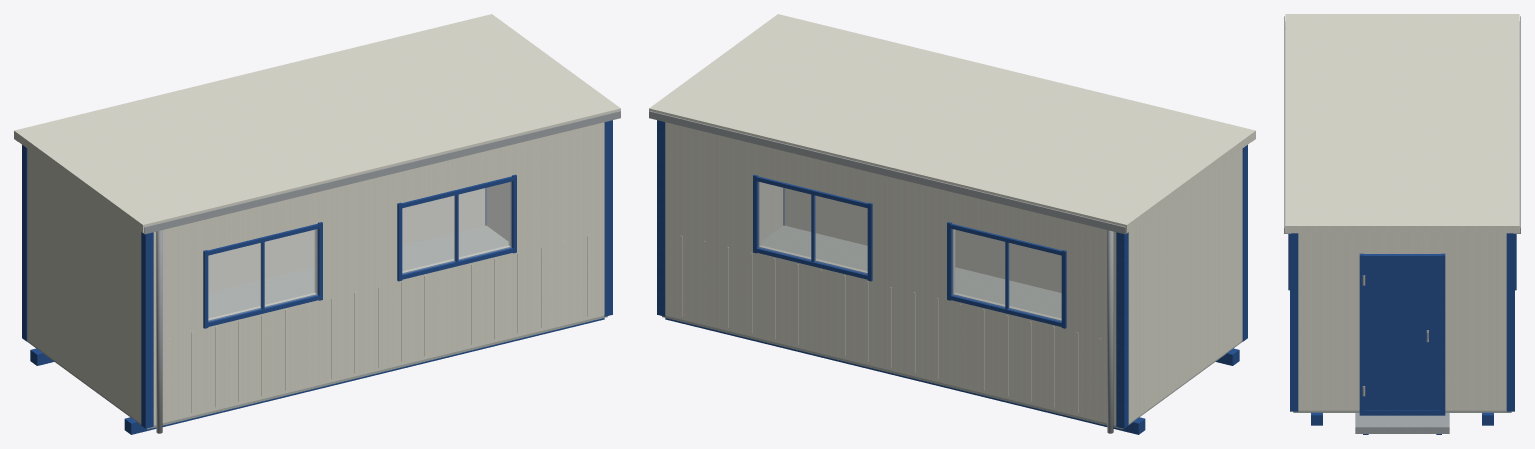
File: construction-site-cabin.glb
The picture shows the model from 3 angles, left to right: view 1: azimuth 30°, elevation 25°; view 2: azimuth 150°, elevation 25°; view 3: azimuth 270°, elevation 25°; orthographic projection. The views are drawn at different scales.
Parts seen in each view (by area): view 1: Cabin finite walls with true door and window openings, Cabin finite flat roof slab, Cabin finite floor, Cabin open finite gutter -1, Cabin side window -1 -1500 pane -1, Cabin side window -1 1000 pane -1, Cabin side window -1 1000 pane 1, Cabin side window -1 -1500 pane 1, Cabin corner post -2960 -1330, Cabin corner post 2960 -1330, Cabin downpipe -1, Cabin structural skid -1050 (+5 smaller); view 2: Cabin finite walls with true door and window openings, Cabin finite flat roof slab, Cabin finite floor, Cabin open finite gutter 1, Cabin side window 1 -1500 pane -1, Cabin side window 1 1000 pane -1, Cabin side window 1 1000 pane 1, Cabin side window 1 -1500 pane 1, Cabin corner post -2960 1330, Cabin corner post 2960 1330, Cabin downpipe 1, Cabin structural skid 1050 (+5 smaller); view 3: Cabin finite flat roof slab, Cabin finite walls with true door and window openings, Cabin closed finite entry door, Cabin attached entrance step, Cabin corner post 2960 1330, Cabin corner post 2960 -1330, Cabin door jamb 500, Cabin door jamb -500, Cabin door frame rail 2270, Cabin door frame rail 173, Cabin open finite gutter 1, Cabin open finite gutter -1 (+1 smaller).
Boxes of the visible parts, left/top/right/bottom form: Cabin finite walls with true door and window openings: left=27, top=122, right=604, bottom=425; Cabin finite flat roof slab: left=14, top=14, right=620, bottom=232; Cabin finite floor: left=27, top=225, right=607, bottom=429; Cabin open finite gutter -1: left=141, top=111, right=620, bottom=234; Cabin side window -1 -1500 pane -1: left=208, top=243, right=261, bottom=321; Cabin side window -1 1000 pane -1: left=402, top=195, right=455, bottom=273; Cabin side window -1 1000 pane 1: left=459, top=182, right=511, bottom=260; Cabin side window -1 -1500 pane 1: left=265, top=229, right=317, bottom=307; Cabin corner post -2960 -1330: left=141, top=232, right=153, bottom=428; Cabin corner post 2960 -1330: left=604, top=120, right=612, bottom=316; Cabin downpipe -1: left=156, top=230, right=162, bottom=433; Cabin structural skid -1050: left=124, top=318, right=604, bottom=434; Cabin finite walls with true door and window openings: left=665, top=122, right=1242, bottom=425; Cabin finite flat roof slab: left=649, top=14, right=1255, bottom=232; Cabin finite floor: left=662, top=225, right=1242, bottom=429; Cabin open finite gutter 1: left=649, top=111, right=1128, bottom=234; Cabin side window 1 -1500 pane -1: left=1008, top=243, right=1061, bottom=321; Cabin side window 1 1000 pane -1: left=814, top=195, right=867, bottom=273; Cabin side window 1 1000 pane 1: left=758, top=182, right=810, bottom=260; Cabin side window 1 -1500 pane 1: left=952, top=229, right=1004, bottom=307; Cabin corner post -2960 1330: left=1116, top=232, right=1128, bottom=428; Cabin corner post 2960 1330: left=657, top=120, right=665, bottom=316; Cabin downpipe 1: left=1107, top=230, right=1113, bottom=433; Cabin structural skid 1050: left=665, top=318, right=1145, bottom=434; Cabin finite flat roof slab: left=1285, top=14, right=1519, bottom=233; Cabin finite walls with true door and window openings: left=1298, top=233, right=1506, bottom=410; Cabin closed finite entry door: left=1364, top=260, right=1440, bottom=410; Cabin attached entrance step: left=1355, top=413, right=1449, bottom=433; Cabin corner post 2960 1330: left=1506, top=233, right=1514, bottom=411; Cabin corner post 2960 -1330: left=1290, top=233, right=1298, bottom=411; Cabin door jamb 500: left=1441, top=253, right=1445, bottom=415; Cabin door jamb -500: left=1359, top=253, right=1363, bottom=415; Cabin door frame rail 2270: left=1360, top=254, right=1444, bottom=260; Cabin door frame rail 173: left=1360, top=410, right=1444, bottom=415; Cabin open finite gutter 1: left=1513, top=16, right=1520, bottom=233; Cabin open finite gutter -1: left=1284, top=16, right=1291, bottom=233.
Size of the model in its own units: 6.48 by 2.72 by 2.91.
6 materials, 6 textured.
